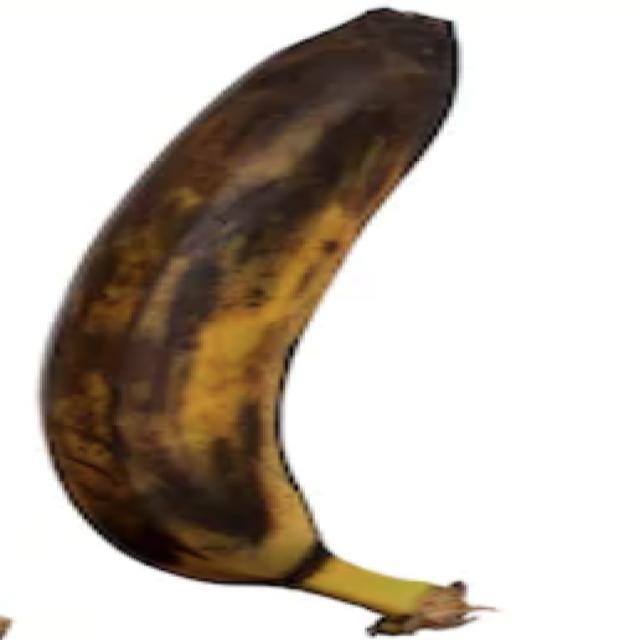rotten-banana: (35, 5, 496, 636)
